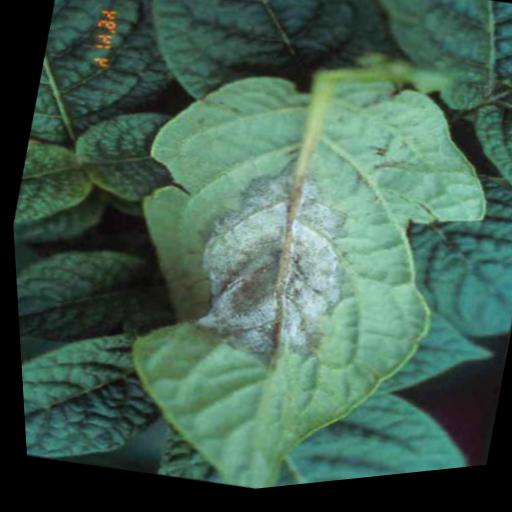Late Blight: (69, 16, 512, 507)
